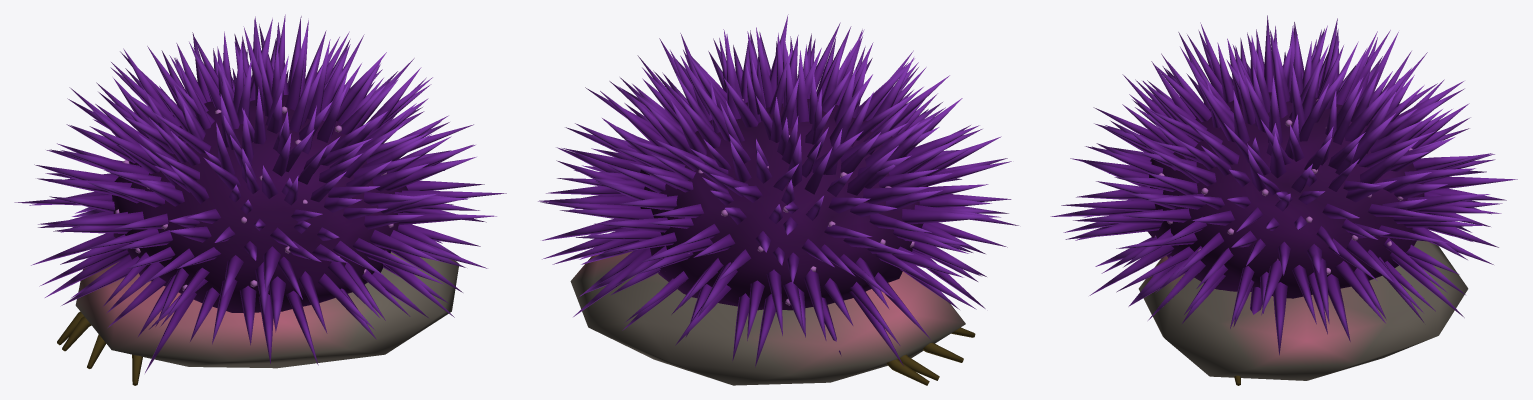
Rendered from PurpleSeaUrchin.fbx.
The picture shows the model from 3 angles, left to right: view 1: azimuth 30°, elevation 25°; view 2: azimuth 150°, elevation 25°; view 3: azimuth 270°, elevation 25°; orthographic projection. The views are drawn at different scales.
Visible parts, largest first — view 1: PurpleSeaUrchin; view 2: PurpleSeaUrchin; view 3: PurpleSeaUrchin.
Boxes of the visible parts, x1,y1,x2,y2 form: PurpleSeaUrchin: (14, 14, 506, 385); PurpleSeaUrchin: (538, 14, 1018, 385); PurpleSeaUrchin: (1050, 15, 1517, 385).
Size of the model in its own units: 1.43 by 0.9735 by 1.44.
